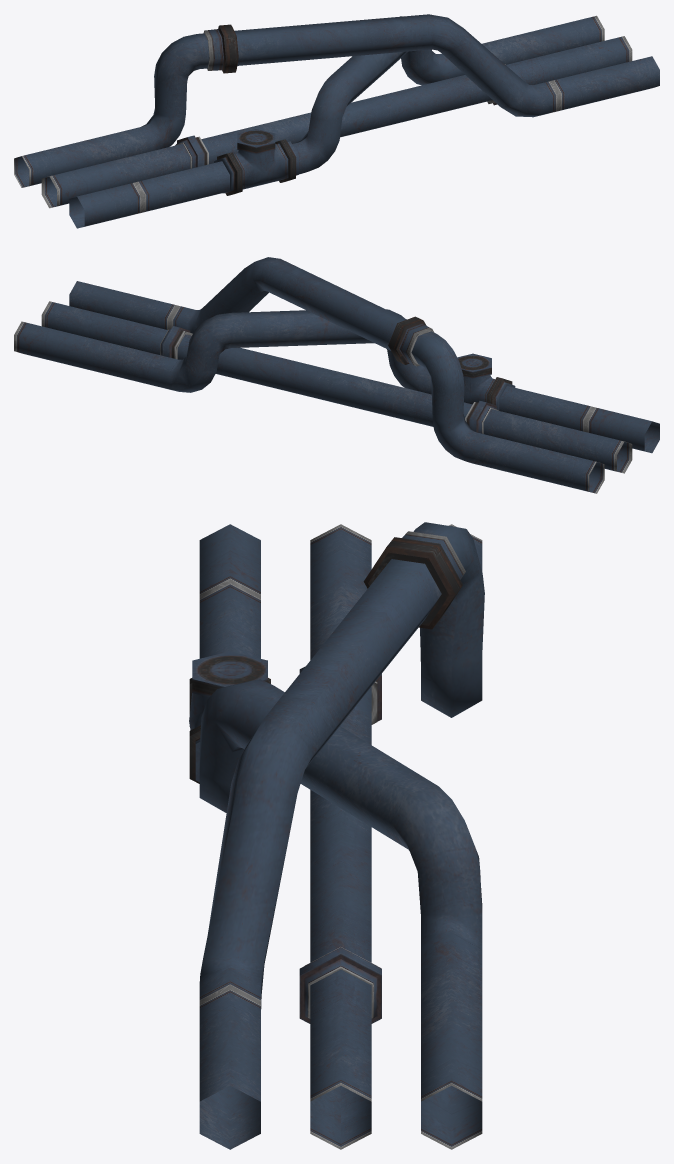
File: Pipe3_D_L1.fbx
3 views of the same model, one above another, from view 1: azimuth 30°, elevation 25°; view 2: azimuth 150°, elevation 25°; view 3: azimuth 270°, elevation 25° (orthographic). The views are drawn at different scales.
Parts seen in each view (by area): view 1: PIpe3_D_L1; view 2: PIpe3_D_L1; view 3: PIpe3_D_L1.
Boxes of the visible parts, x1,y1,x2,y2 form: PIpe3_D_L1: [14, 14, 659, 228]; PIpe3_D_L1: [14, 257, 659, 493]; PIpe3_D_L1: [189, 522, 484, 1149].
Size of the model in its own units: 200 by 40.76 by 44.53.
